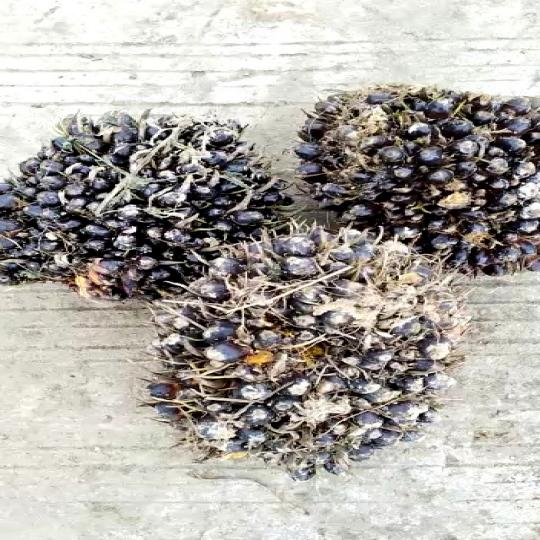mentah: (145, 216, 481, 480), (5, 108, 278, 299), (284, 76, 540, 276)
